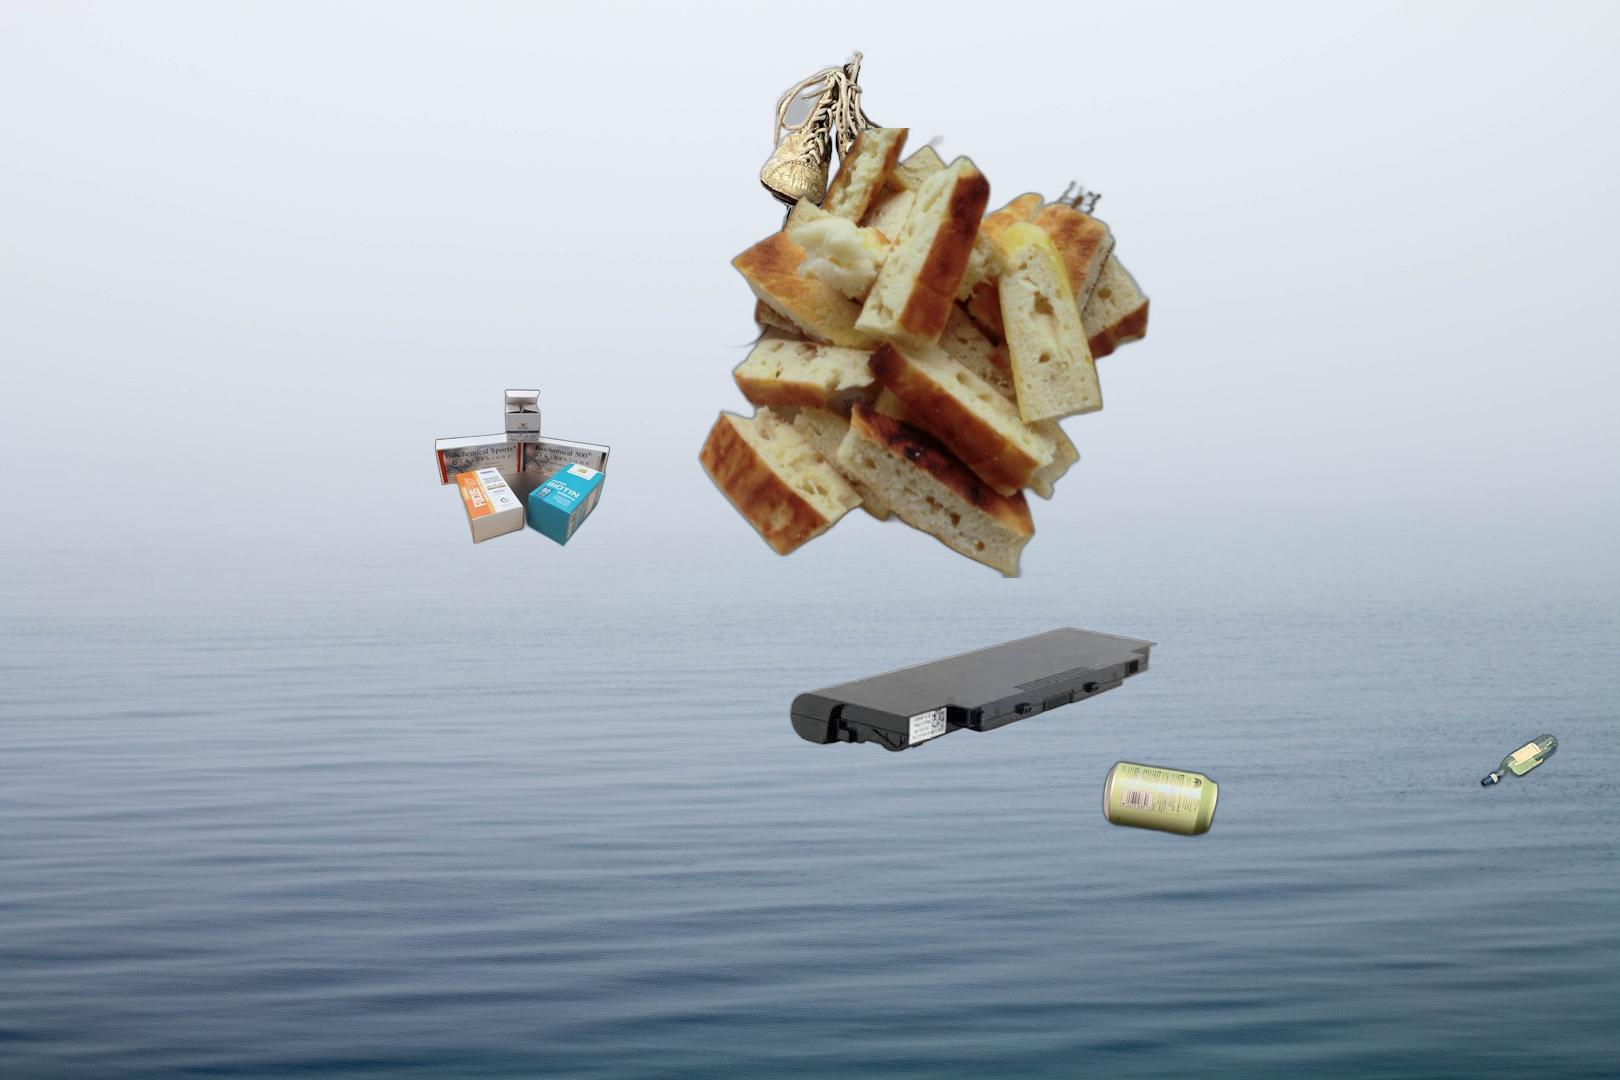battery: (787, 626, 1161, 755)
biological: (694, 128, 1155, 579)
glass: (1477, 728, 1562, 793)
metal-cans: (1099, 755, 1223, 843)
shoes: (756, 46, 916, 241)
trashbox-cardboard: (432, 387, 614, 548)
